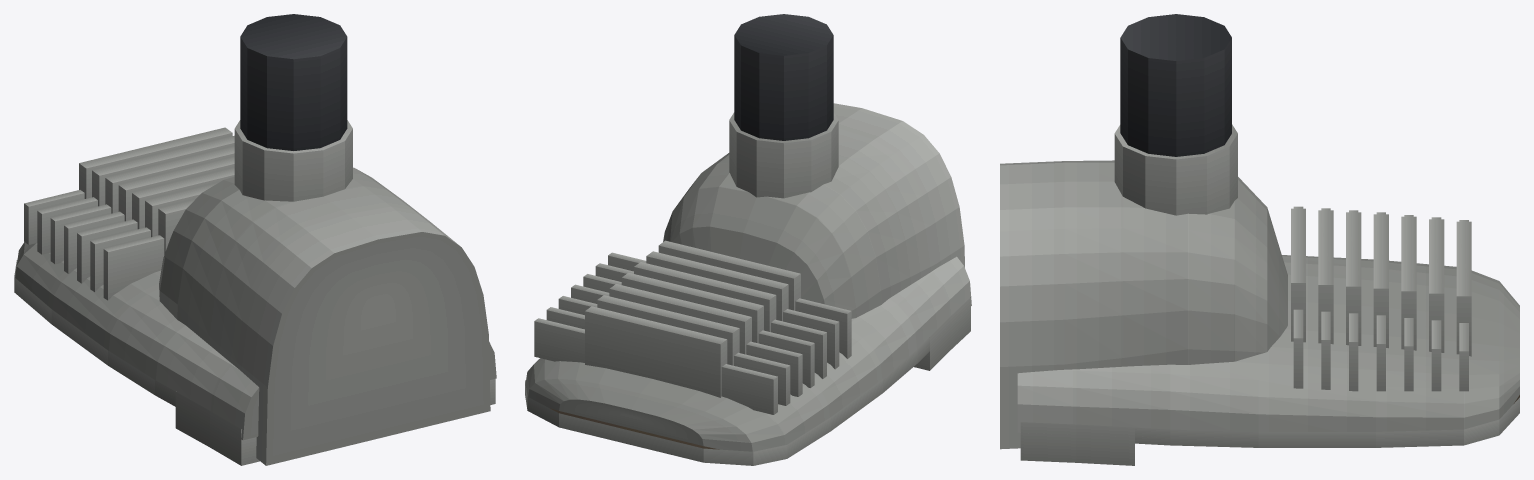
File: streetlight_geelpo.obj
3 views of the same model, side by side, from view 1: azimuth 30°, elevation 25°; view 2: azimuth 150°, elevation 25°; view 3: azimuth 270°, elevation 25° (orthographic). The views are drawn at different scales.
Parts seen in each view (by area): view 1: fixture; view 2: fixture; view 3: fixture.
Boxes of the visible parts, <box> form: fixture: <box>14,14,496,465</box>; fixture: <box>525,14,971,465</box>; fixture: <box>1000,14,1519,465</box>.
Size of the model in its own units: 0.375 by 0.4206 by 0.5531.
